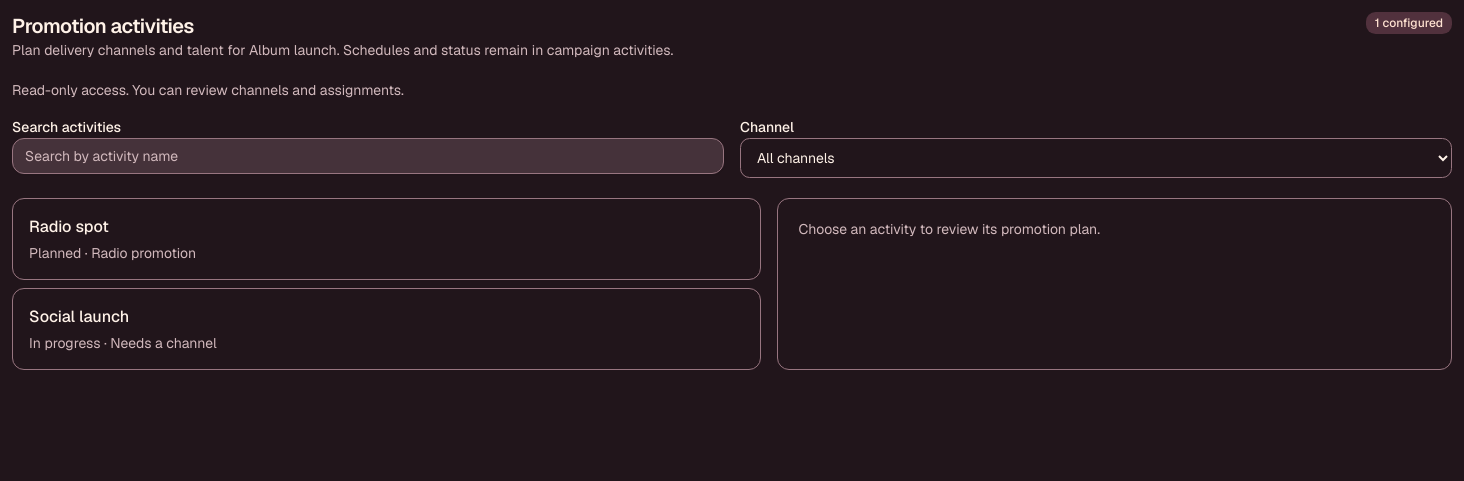
Scenario: PromotionOperationsBoard › keeps read-only activity details visible without mutation controls
Step 1. Click the button "Radio spot Planned · Radio promotion" → (69, 226), box [12,198,762,280]
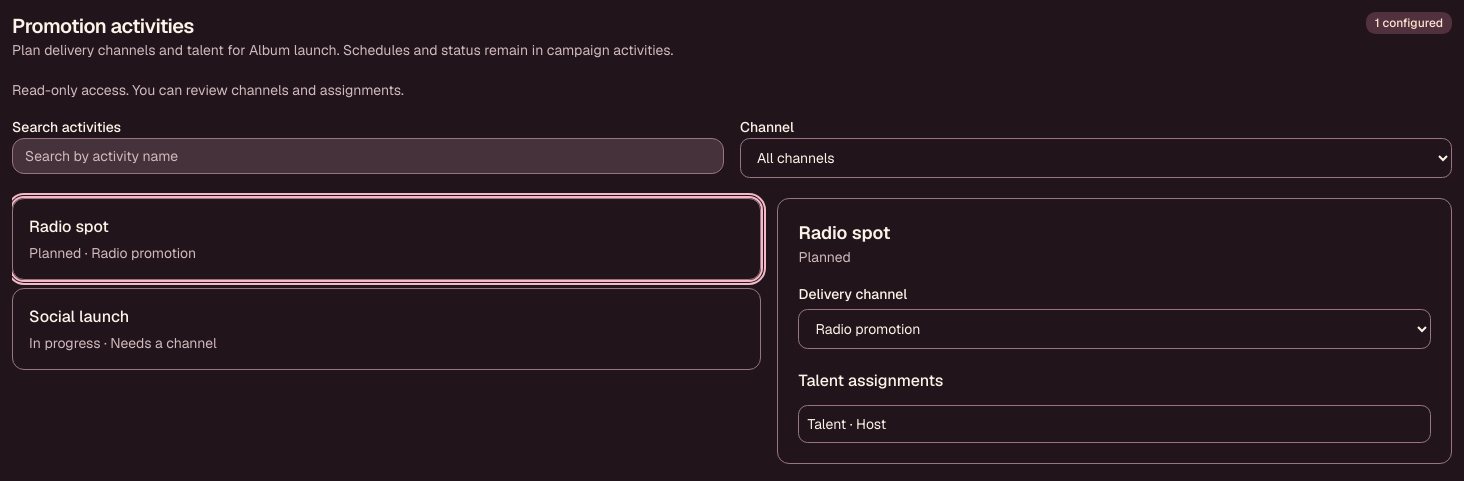
Expected: the text "Talent · Host" is shown, [808,414,886,434]
Expected: the dropdown labelled "Delivery channel" is disabled, [798,309,1431,349]
